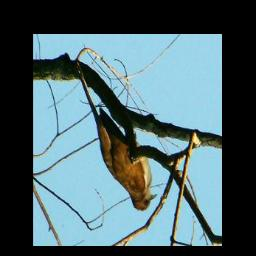Cuckoo: (97, 105, 157, 212)
